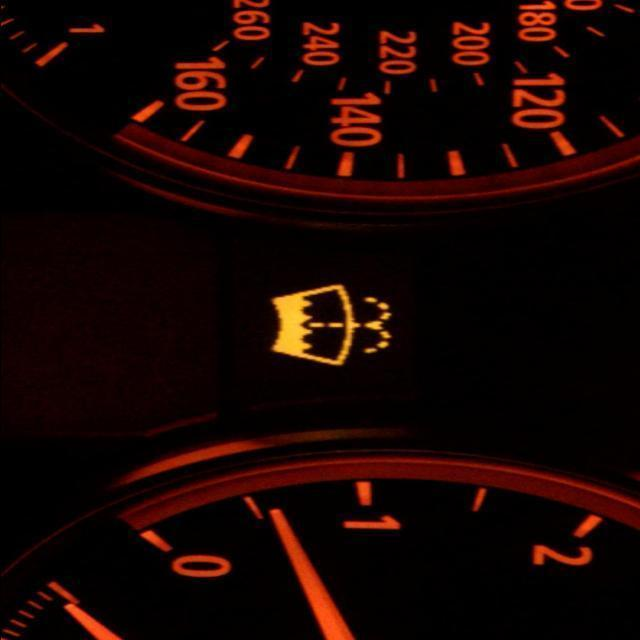Washer Fluid: (271, 280, 391, 365)
